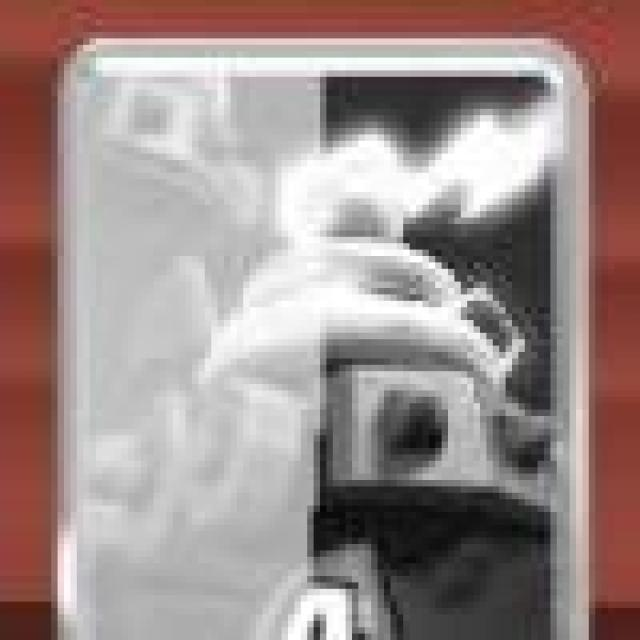Zappies: (69, 32, 574, 640)
